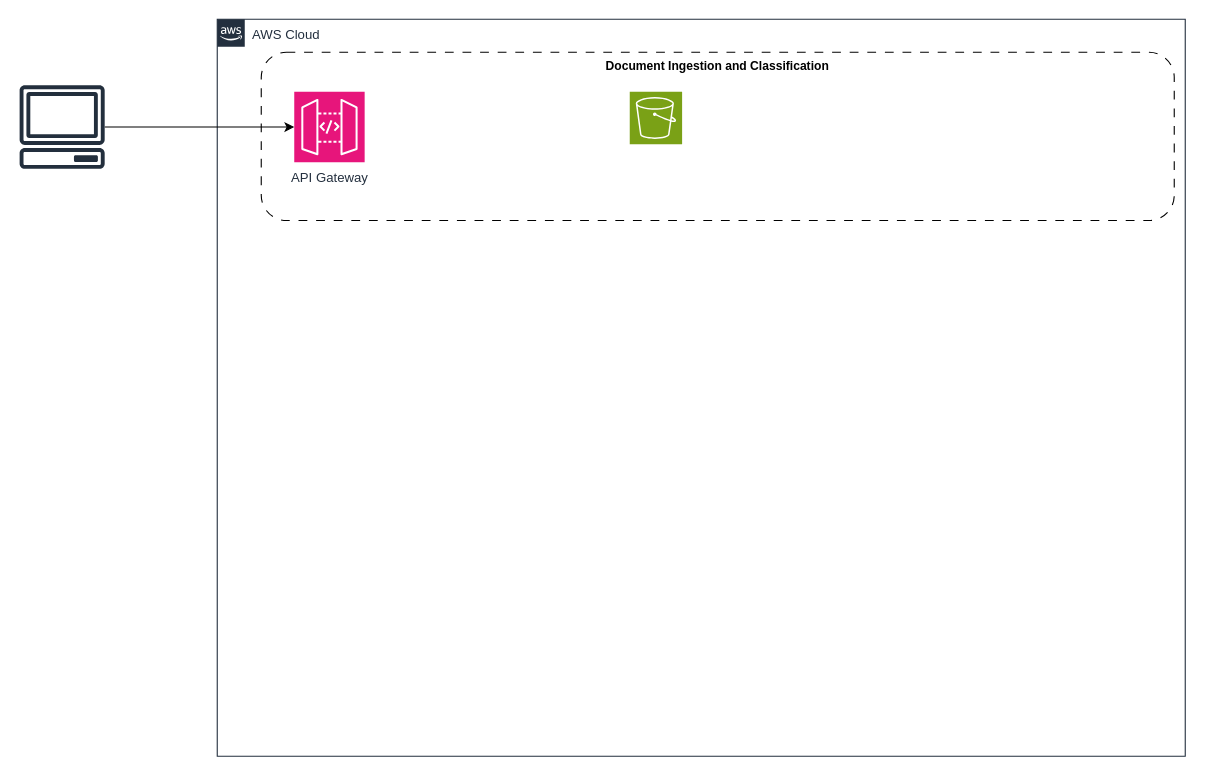
The diagram is 1205 pixels wide and 776 high, and some of its shapes have lost their labels. Here are the shapes that lost their labels. From the top down, the centre of each, then its label:
At [62,126]: "Client".
At [655,117]: "Amazon S3 for Raw Document".
